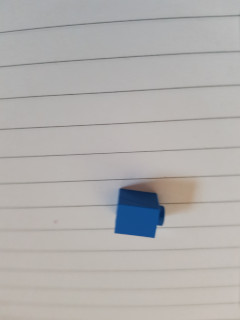1x1 blue: (114, 188, 165, 238)
